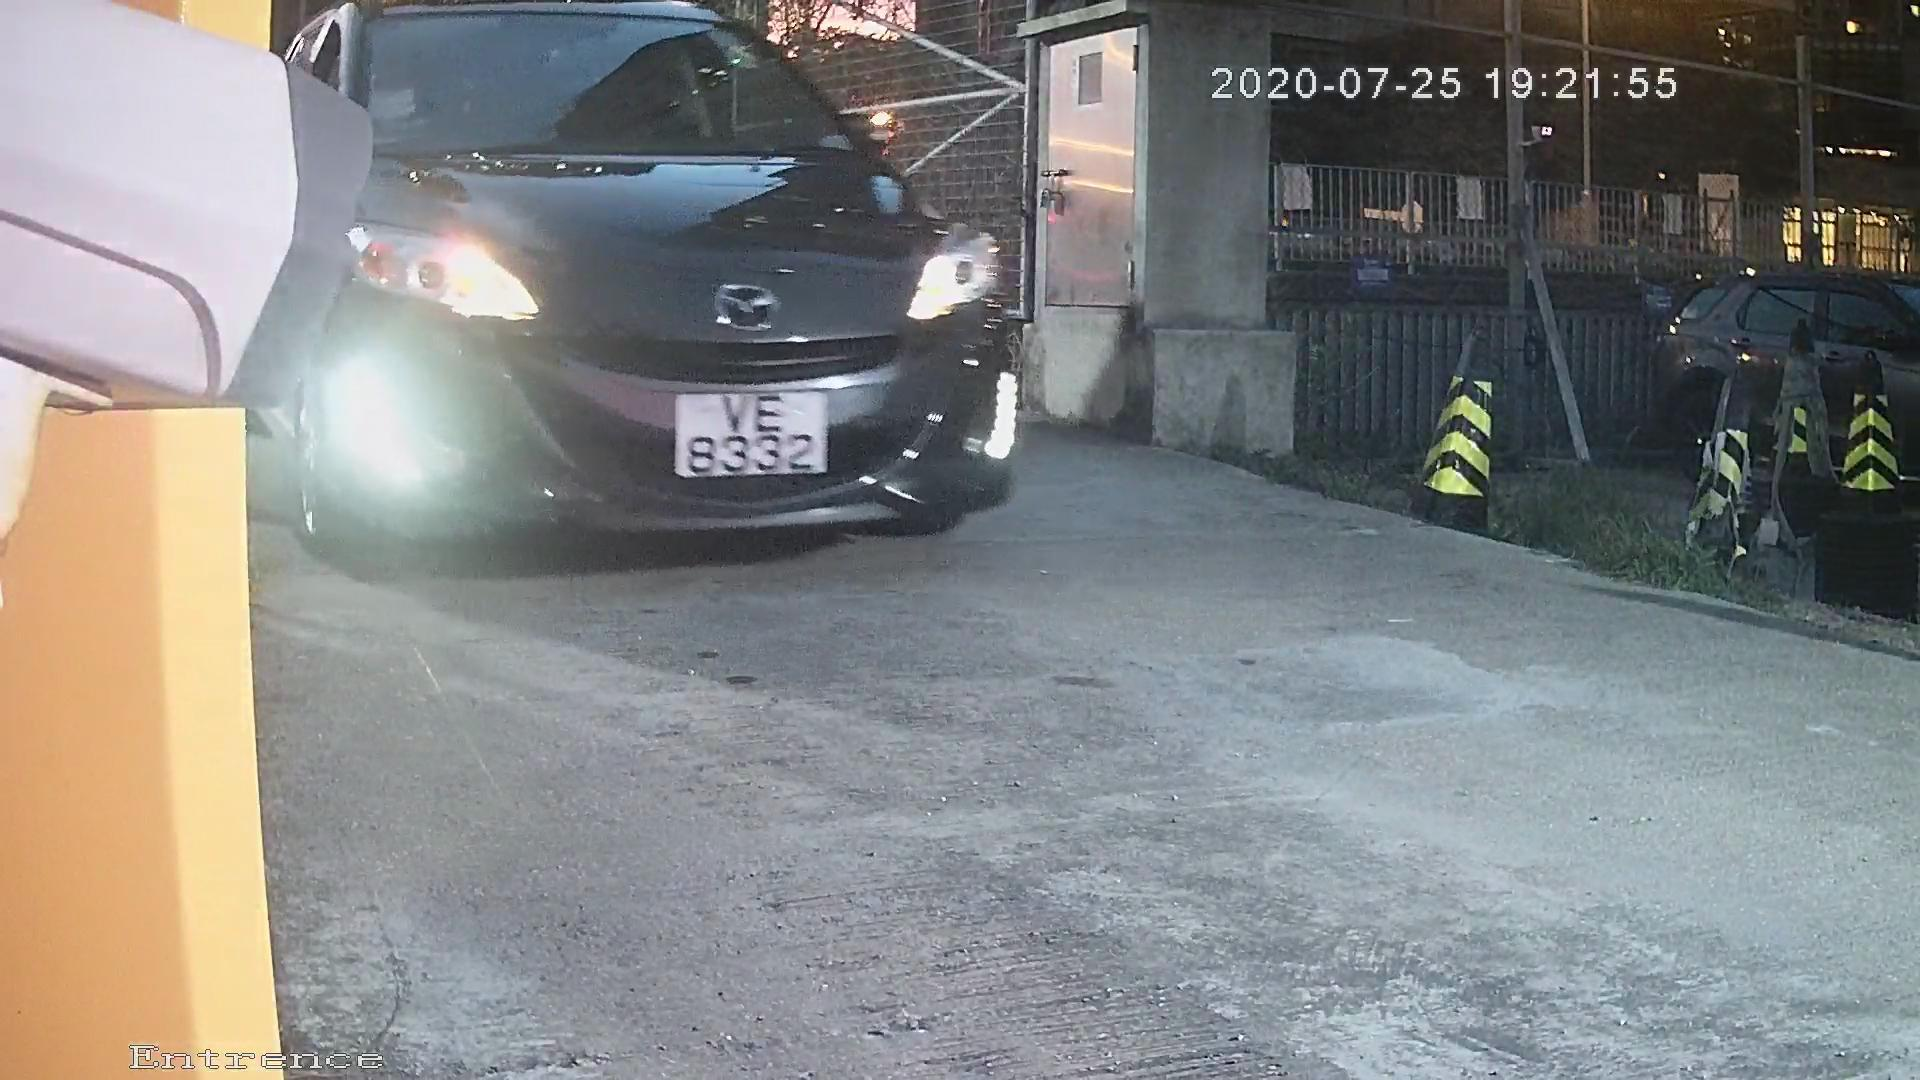privatecar: (256, 1, 1054, 580)
